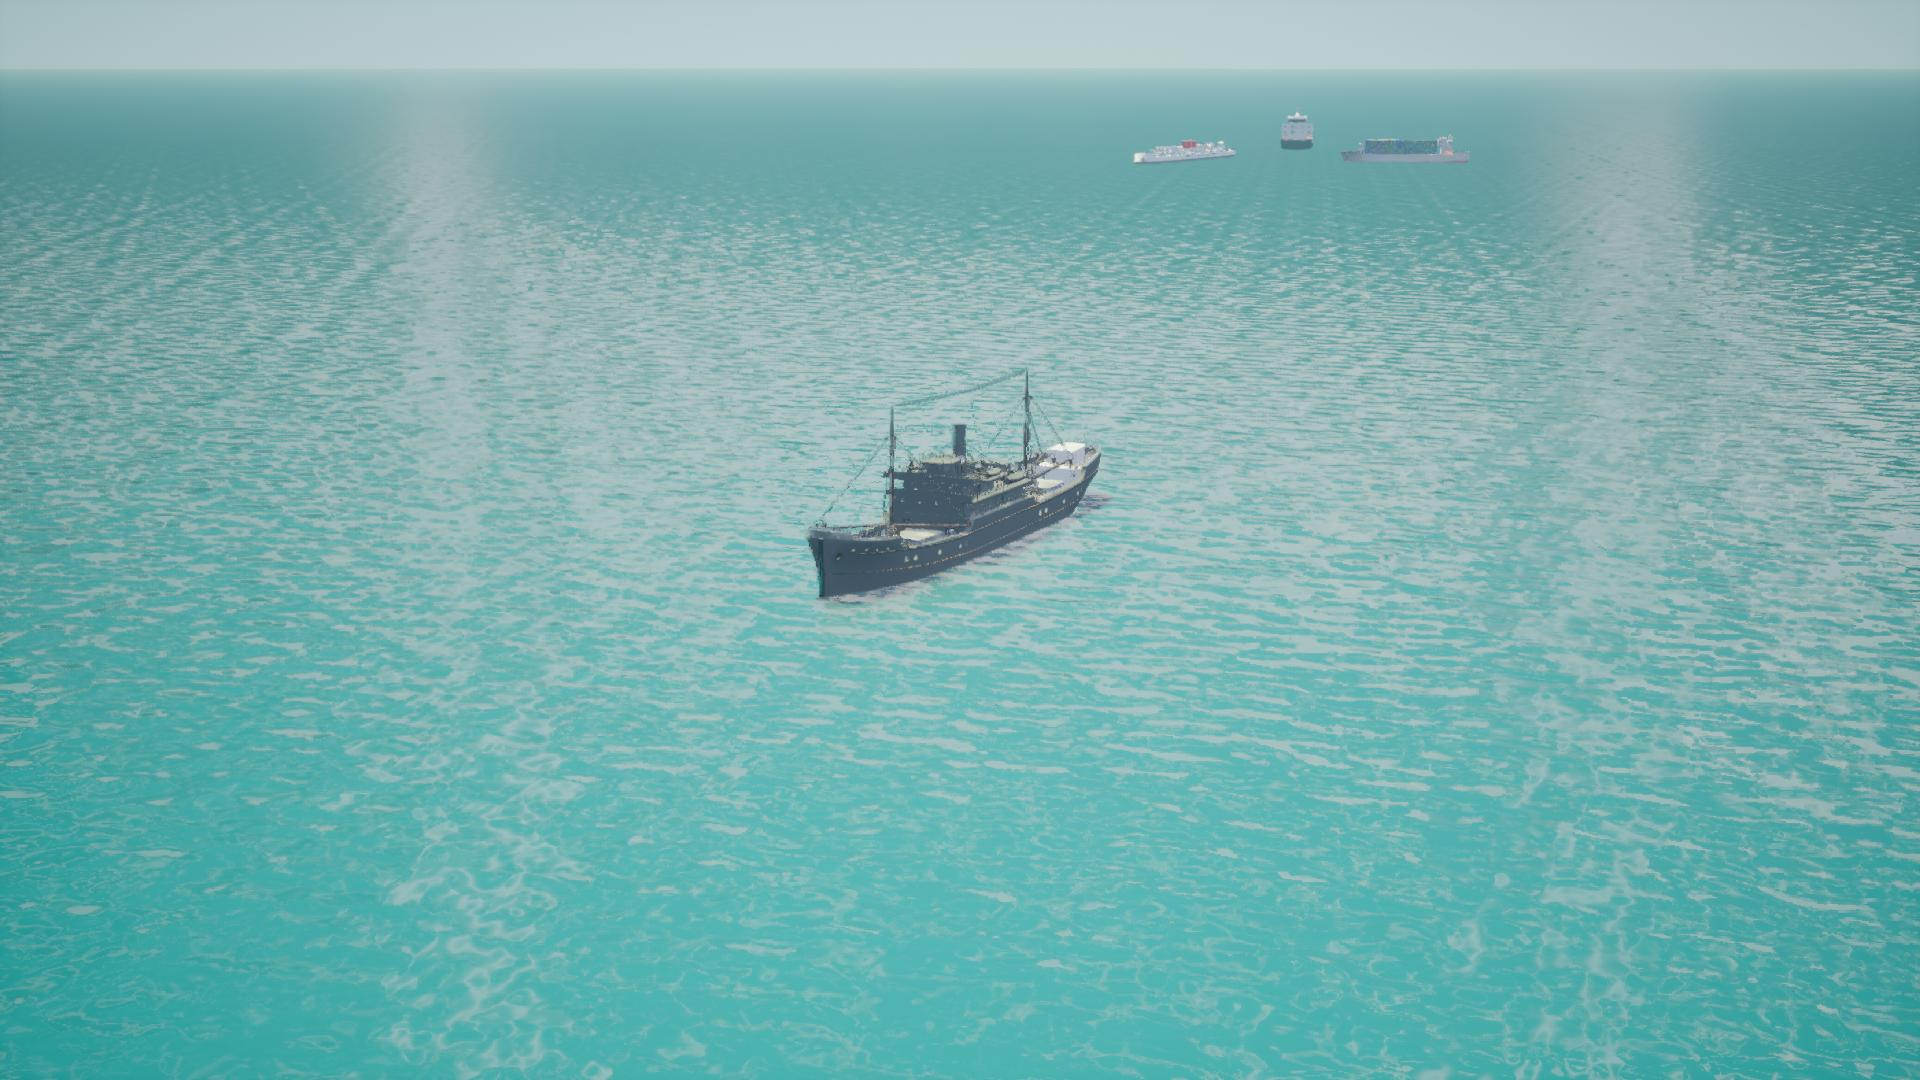Fishing Boat: (810, 442, 1102, 608), (1345, 137, 1478, 167), (1135, 140, 1242, 166), (1282, 109, 1317, 149)
